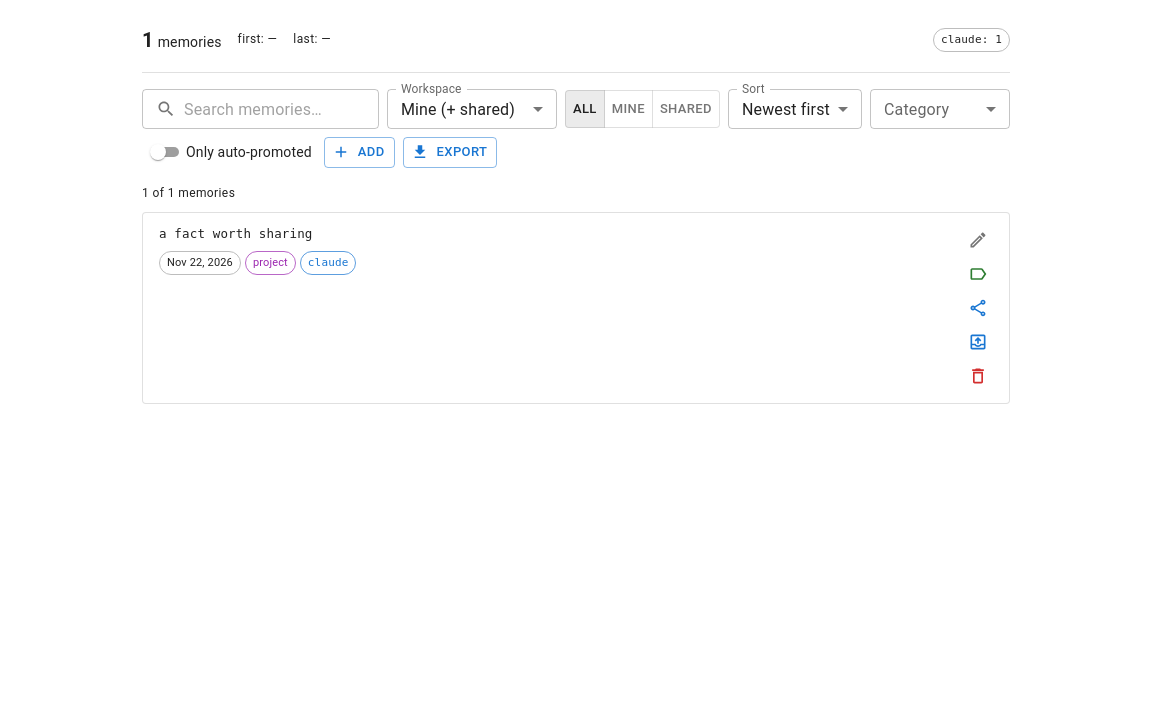
it: share to all (admin) › shows an error toast when the server refuses
The width and height of the screenshot is (1152, 720).
Click the button named "Share to all —": (978, 308) x1=963 y1=293 x2=993 y2=323
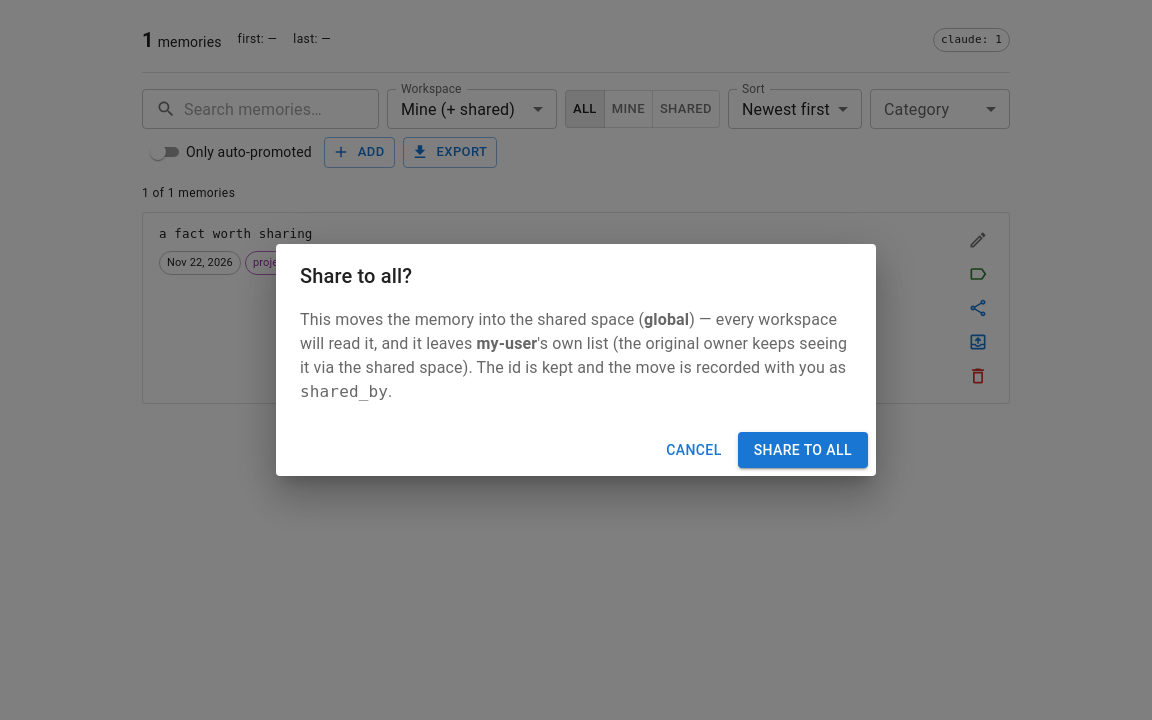
expect the heading "Share to all?" is shown: met, box x1=300 y1=264 x2=412 y2=288
Click the button "Share to all": (803, 450) x1=738 y1=432 x2=868 y2=468
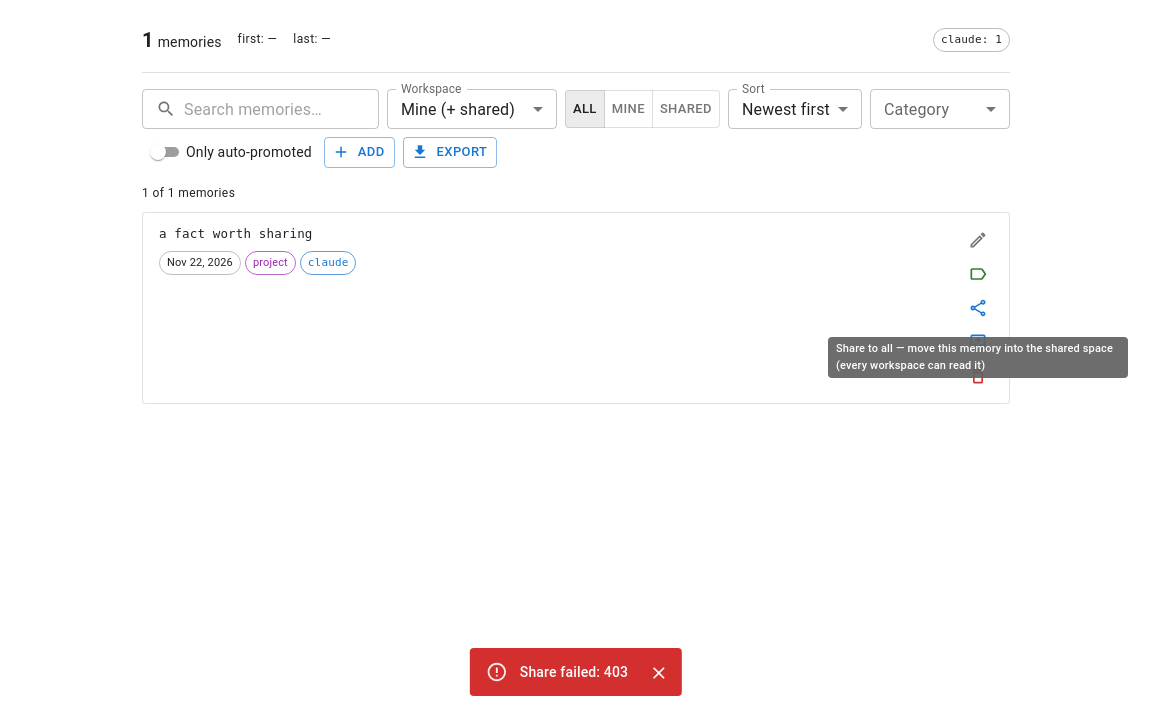
expect the text "Share failed: 403" is shown: met, box x1=520 y1=664 x2=628 y2=680
